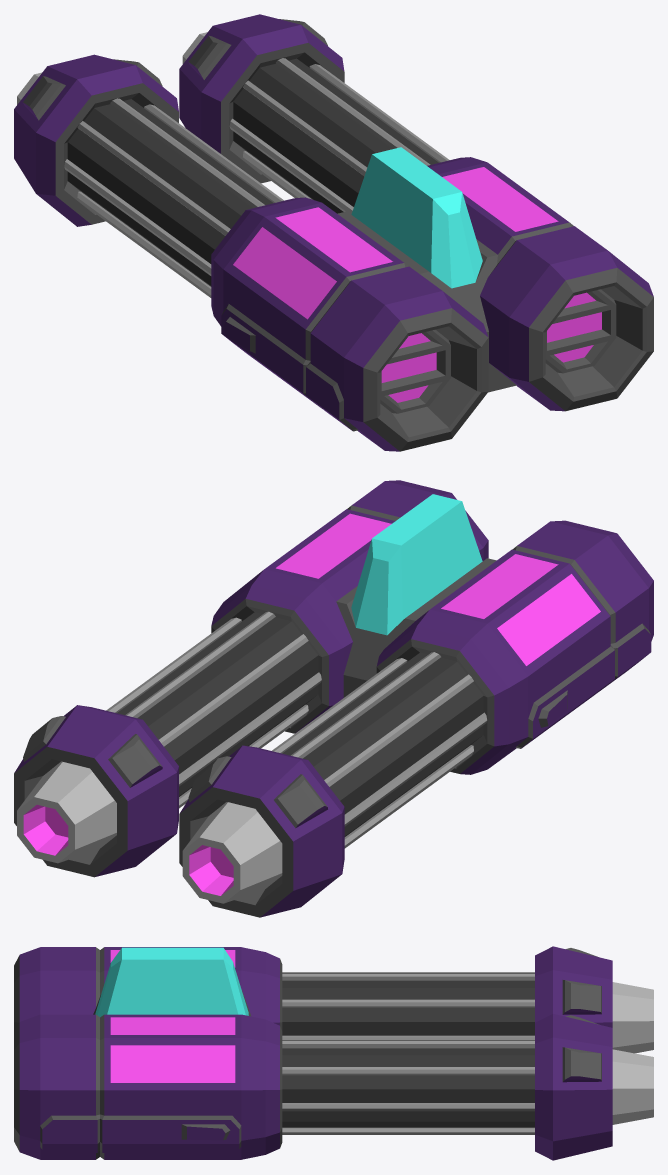
The model's file is Ship_2x4_A1.fbx.
3 renders of one model, top to bottom at view 1: azimuth 30°, elevation 25°; view 2: azimuth 150°, elevation 25°; view 3: azimuth 270°, elevation 25°, orthographic. The views are drawn at different scales.
Parts seen in each view (by area): view 1: Ship_2x4_A1; view 2: Ship_2x4_A1; view 3: Ship_2x4_A1.
Part boxes in pixels (<box>): Ship_2x4_A1: <box>14,14,653,451</box>; Ship_2x4_A1: <box>14,480,653,917</box>; Ship_2x4_A1: <box>14,946,653,1160</box>.
Bounding box in the file's own units: 172 × 98.22 × 353.
